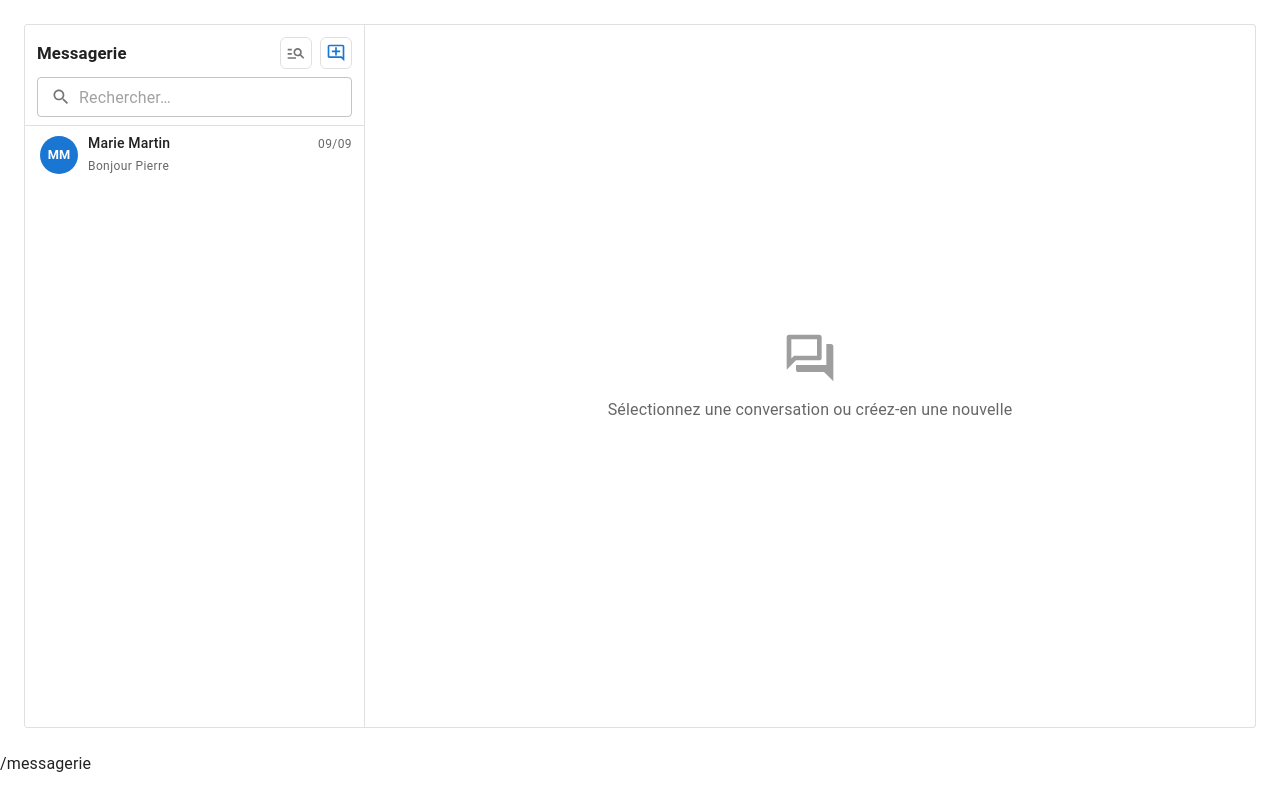
MessageriePage › recherche un message et ouvre la conversation du résultat
expect the text "Marie Martin" is shown: met, box [88,135,170,151]
Click the button named "Rechercher dans les messages" at (296, 53), box [280,37,312,69]
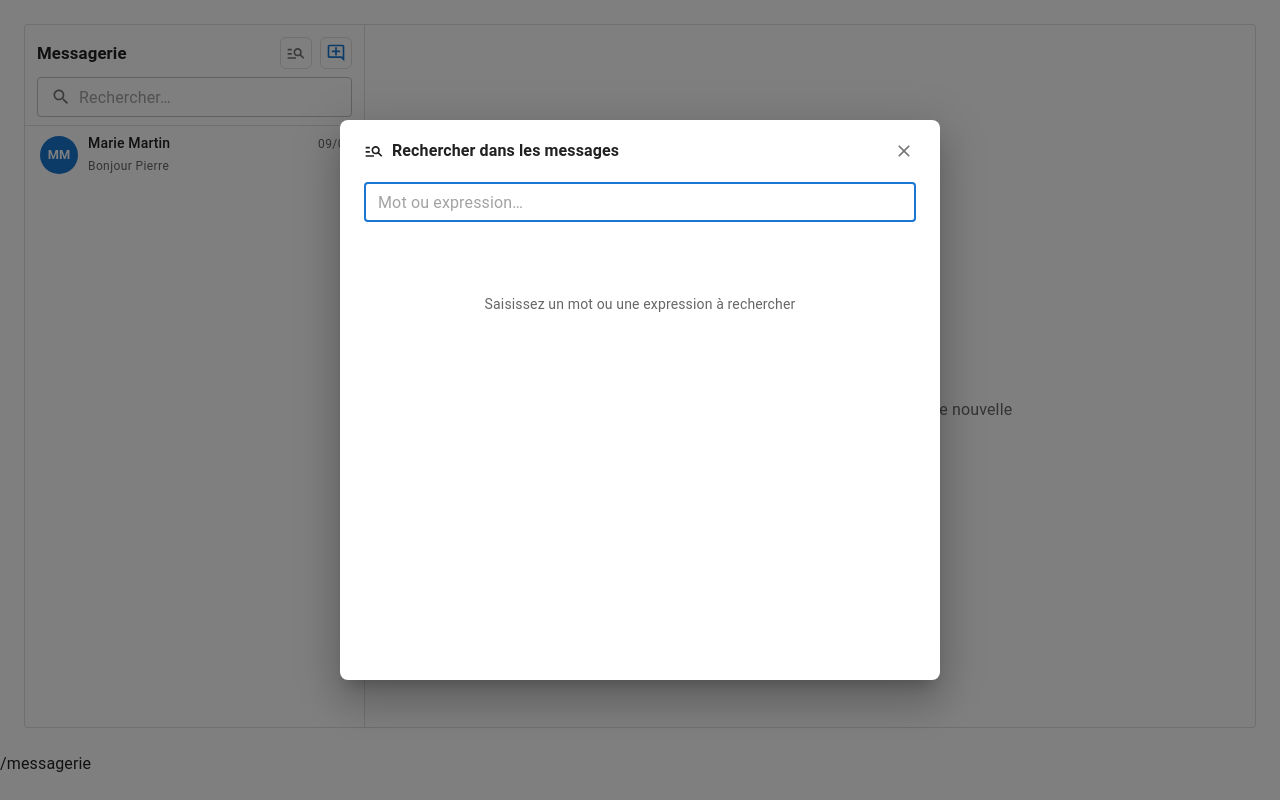
Type "Bonjour" into the field at (640, 202), box [364,182,916,222]
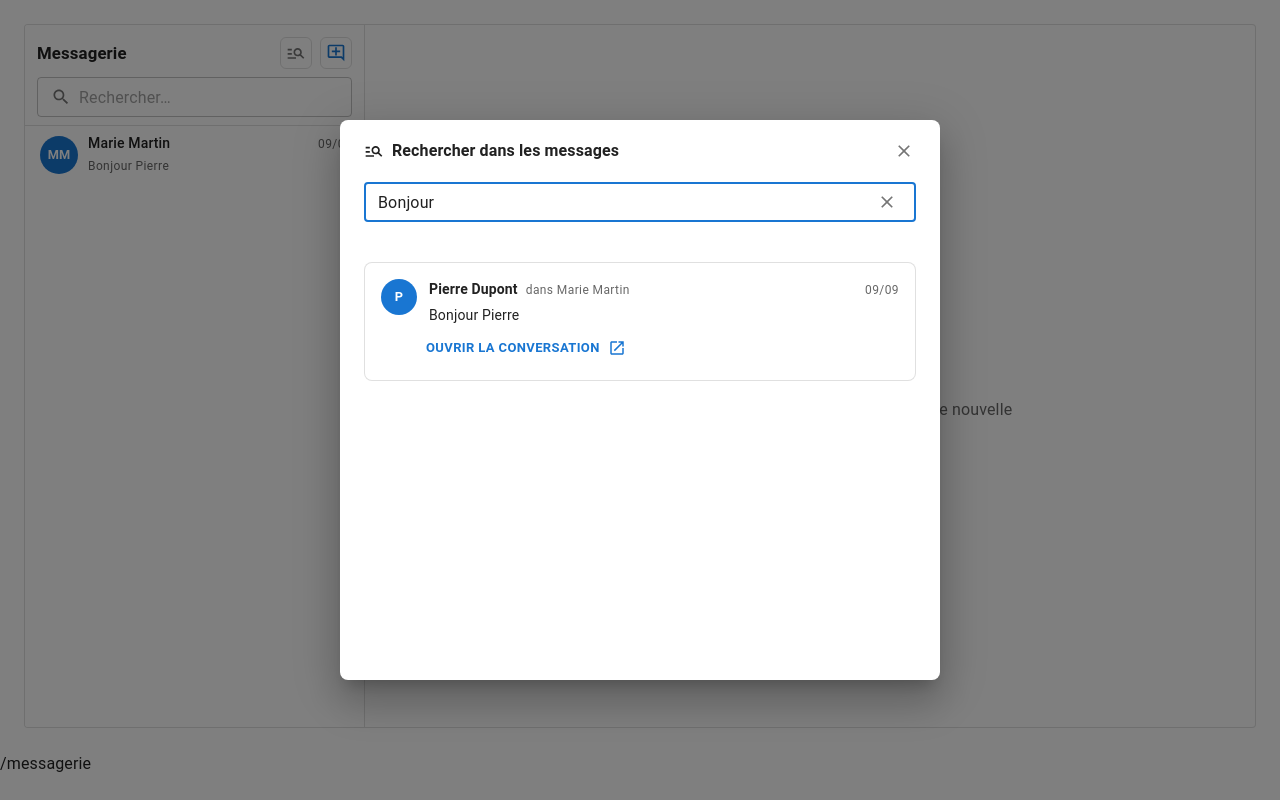
Click the button "Ouvrir la conversation" at (525, 348), box [421,333,629,364]
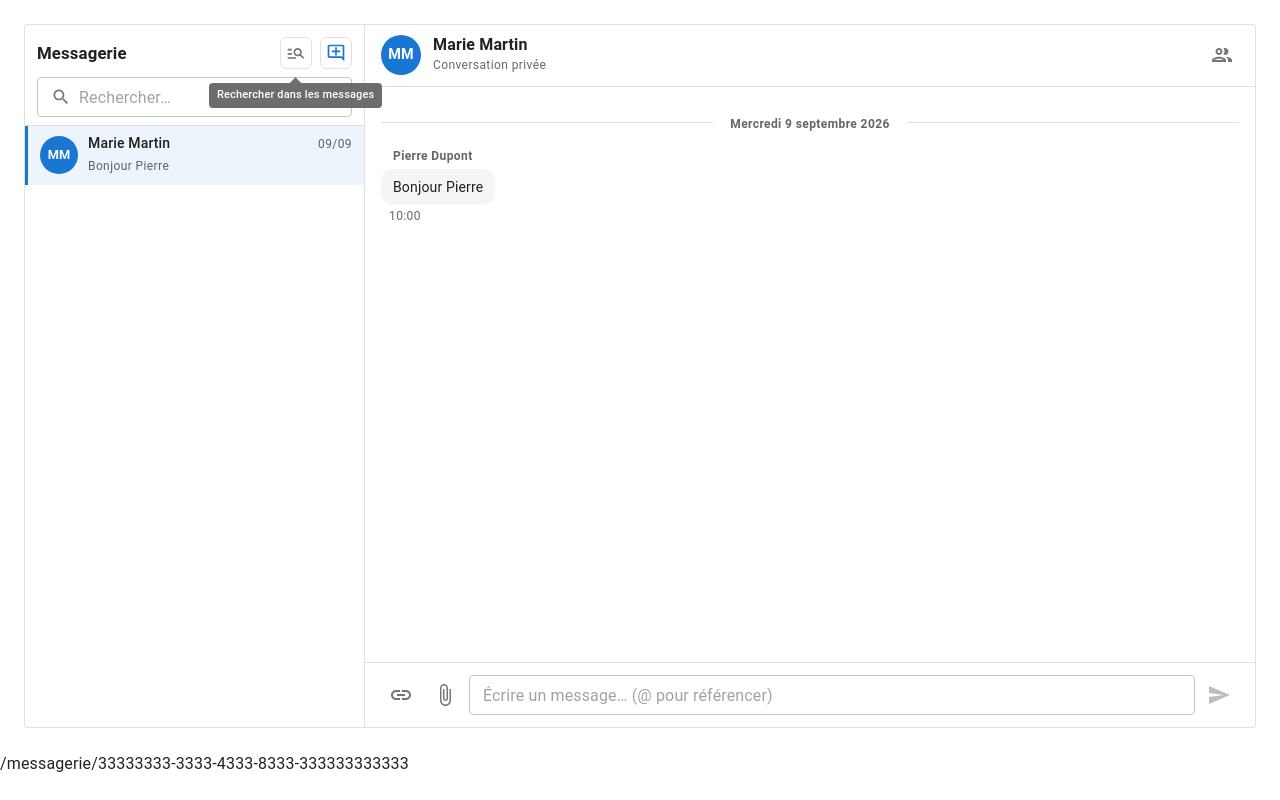
expect the dialog is gone: met
